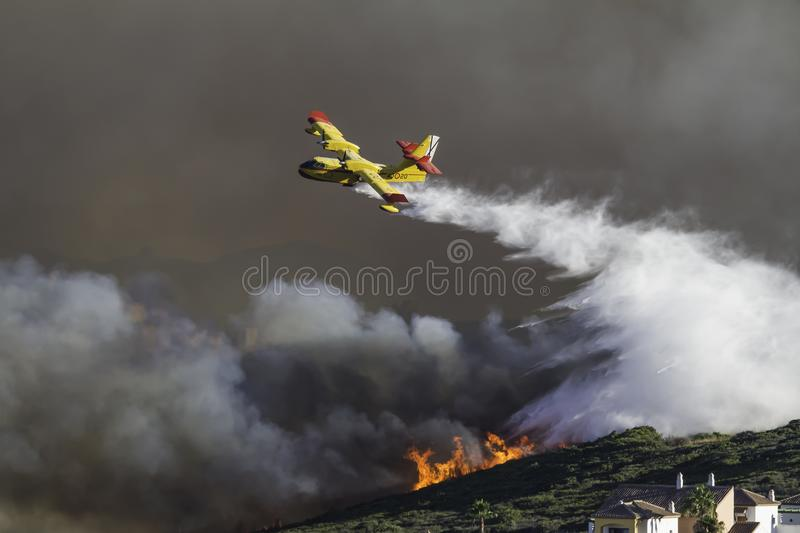Aeronef_de_service: (272, 83, 457, 223)
